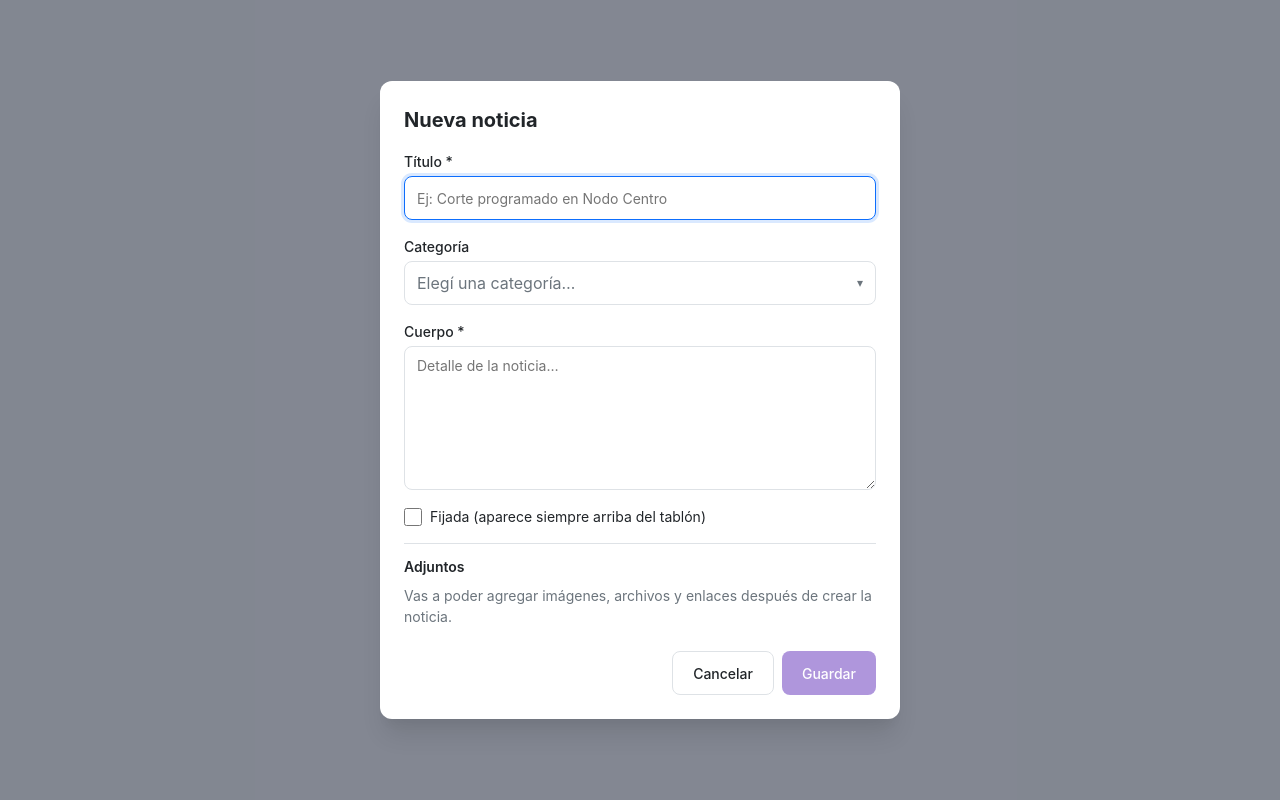
Test: NewsPostModal — doble validación (NEWS-FE-BD-5) › enables submit once title, body and category are filled
Type "Nueva noticia" into the field labelled "Título *" at coordinates (640, 198), box [404,176,876,220]
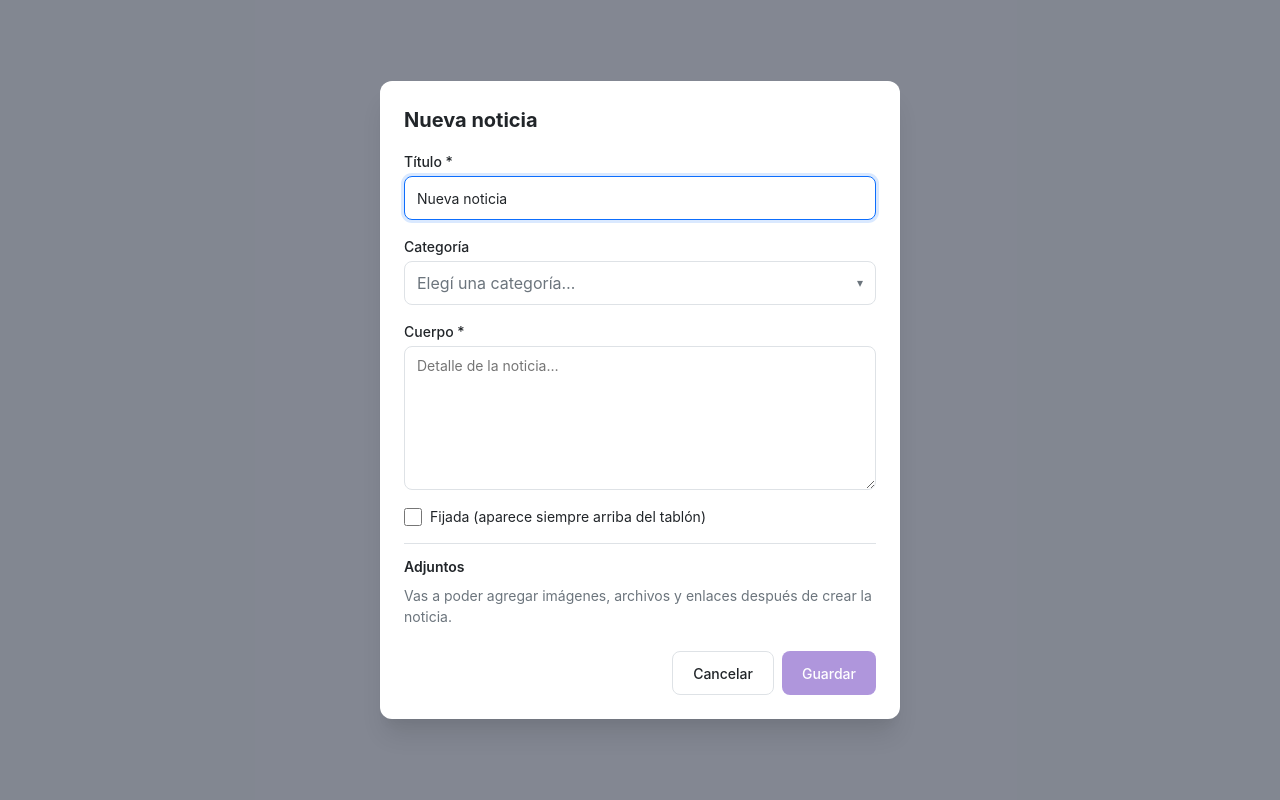
Type "Contenido de la noticia" into the text box labelled "Cuerpo *" at coordinates (640, 418), box [404,346,876,490]
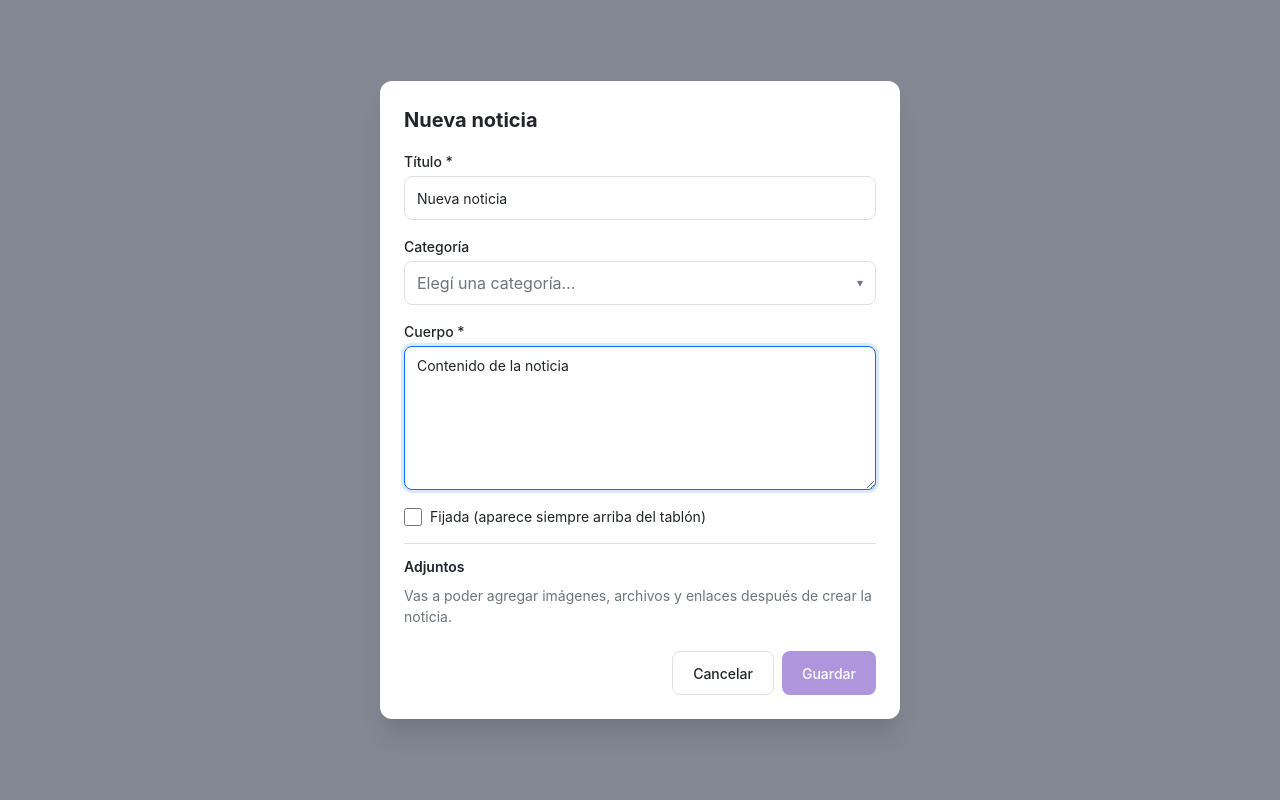
Click the dropdown labelled "Elegí una categoría… ▾" at coordinates (496, 283), box [404,261,876,305]
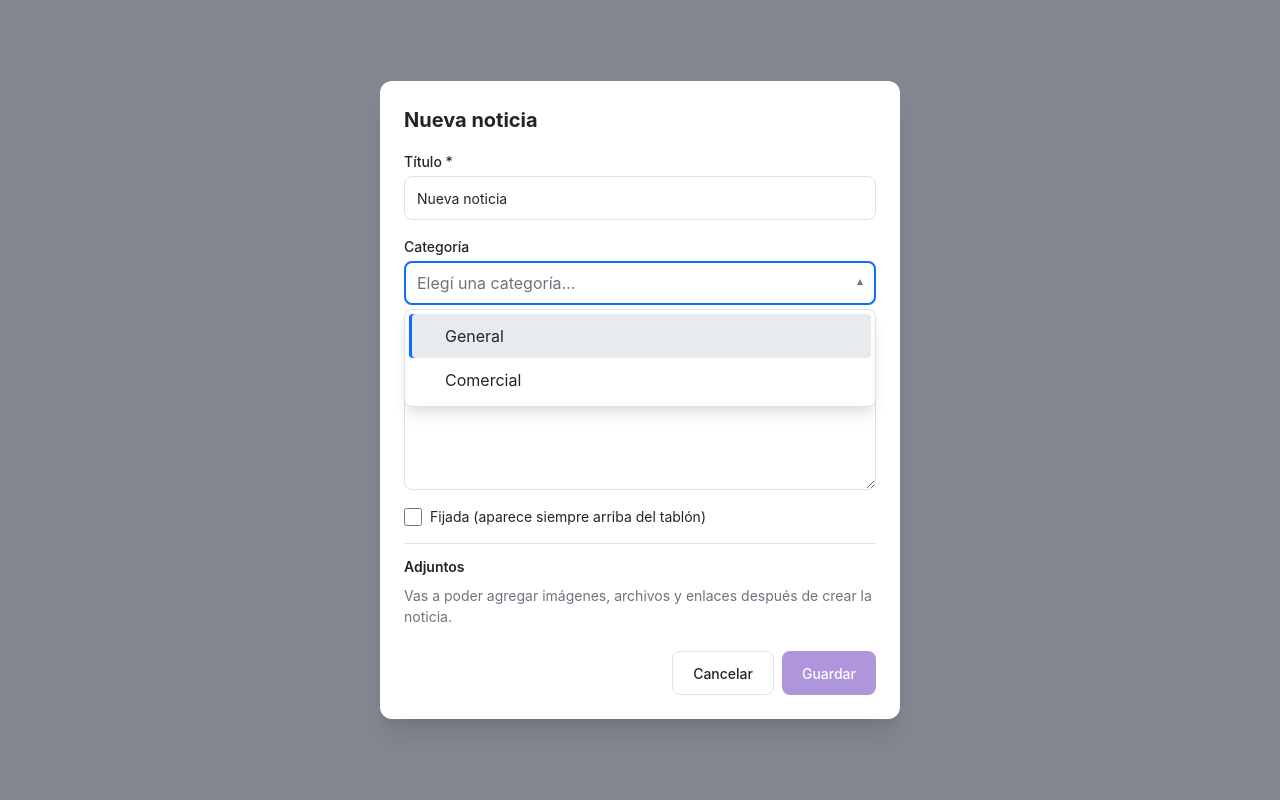
Click the option "Comercial" at coordinates (483, 380), box [445,370,521,390]
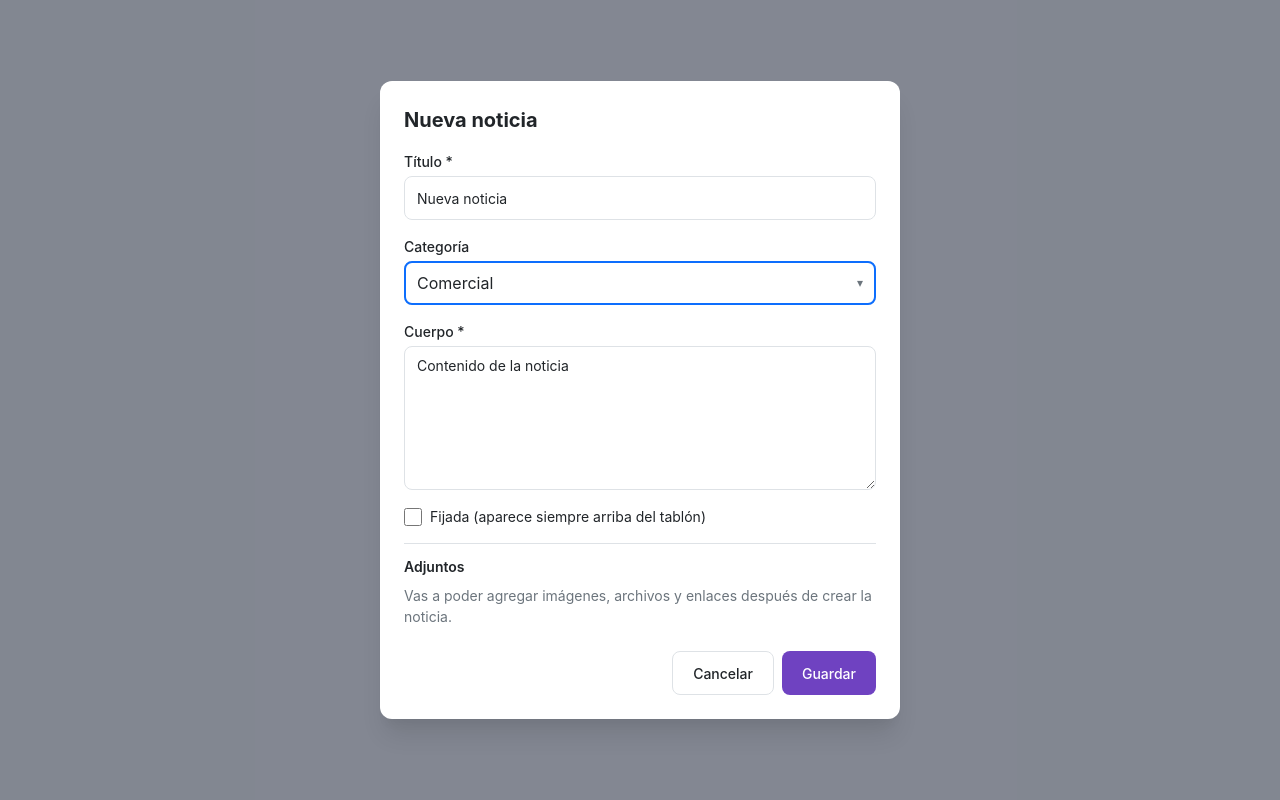
Check: the button "Guardar" is enabled, box [782,651,876,695]
